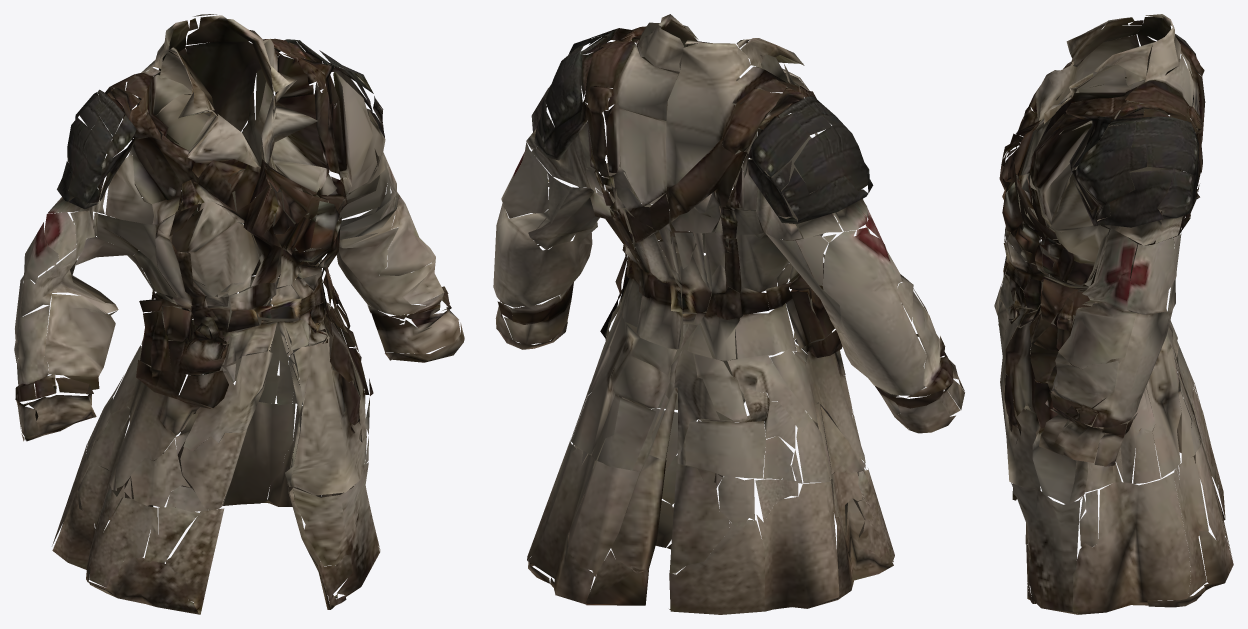
File: a_ward_coat_kain.glb
The picture shows the model from 3 angles, left to right: view 1: azimuth 30°, elevation 25°; view 2: azimuth 150°, elevation 25°; view 3: azimuth 270°, elevation 25°; orthographic projection. The views are drawn at different scales.
Visible parts, largest first — view 1: tripo_node_2e97382c-2fde-45fd-889a-63a90244399b; view 2: tripo_node_2e97382c-2fde-45fd-889a-63a90244399b; view 3: tripo_node_2e97382c-2fde-45fd-889a-63a90244399b.
Boxes of the visible parts, box(x1,y1,x2,y2) form: tripo_node_2e97382c-2fde-45fd-889a-63a90244399b: box(14, 14, 464, 614); tripo_node_2e97382c-2fde-45fd-889a-63a90244399b: box(493, 14, 964, 614); tripo_node_2e97382c-2fde-45fd-889a-63a90244399b: box(994, 14, 1233, 614).
Size of the model in its own units: 0.9505 by 1.16 by 0.4647.
1 material, 1 textured.
